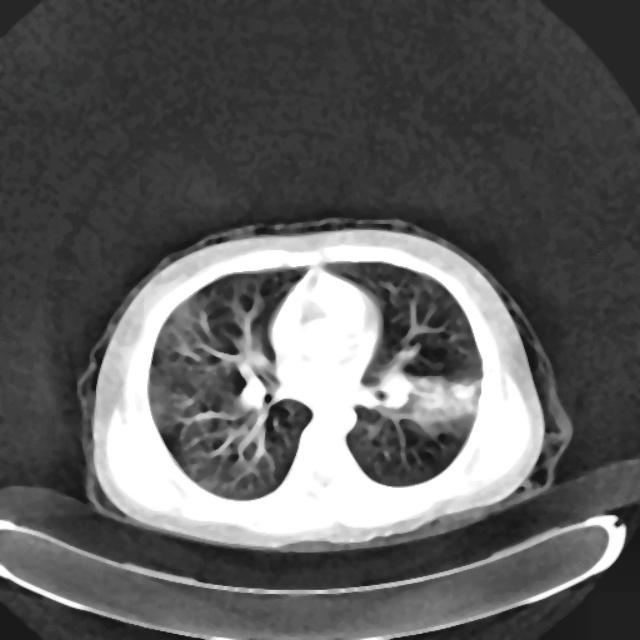covid: (76, 215, 573, 553)
